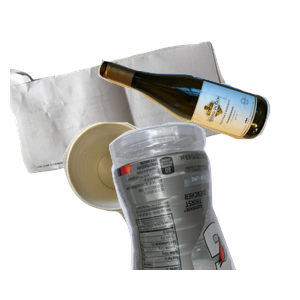glass: (95, 57, 300, 189)
paper: (10, 39, 236, 205)
plastic: (106, 120, 300, 300)
trash: (60, 120, 300, 300)
